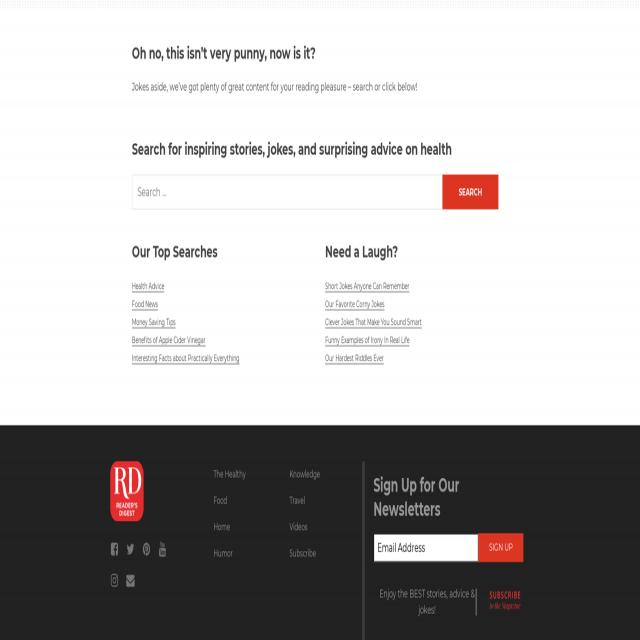button: (110, 461, 144, 521), (442, 174, 498, 210), (478, 533, 524, 562), (489, 588, 520, 611), (158, 541, 168, 560), (126, 541, 136, 559), (126, 572, 136, 590), (142, 542, 151, 560), (110, 573, 120, 589), (110, 542, 119, 558)
field: (132, 175, 442, 210), (374, 533, 478, 562)
